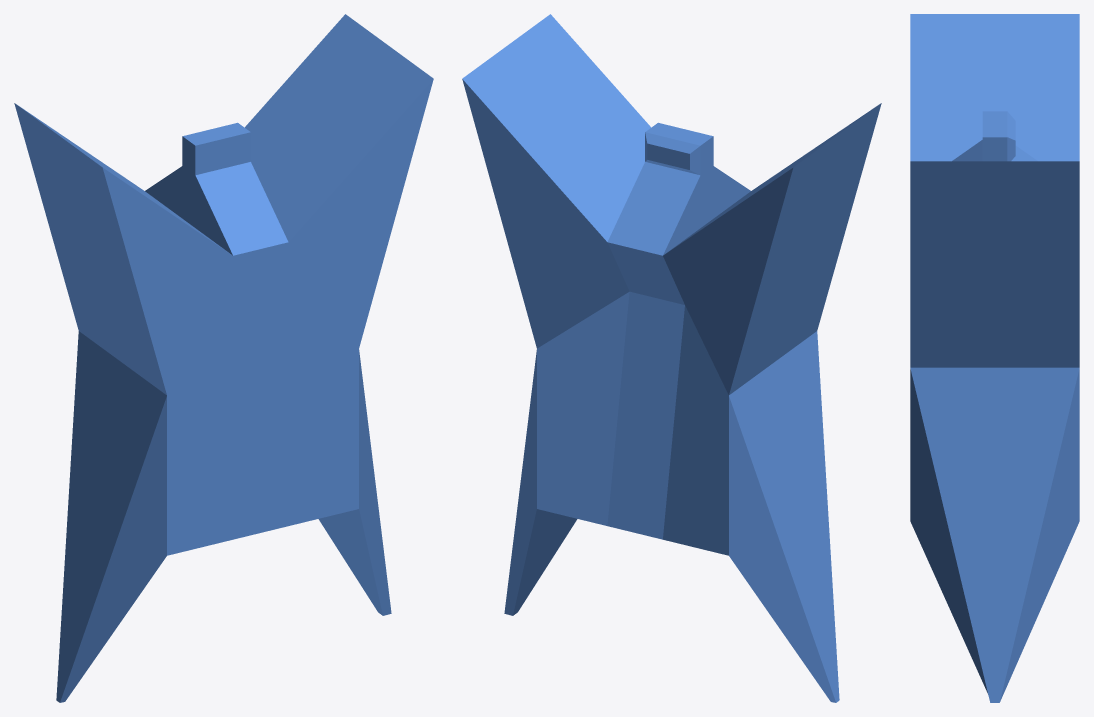
Rendered from enemy.glb.
The picture shows the model from 3 angles, left to right: view 1: azimuth 30°, elevation 25°; view 2: azimuth 150°, elevation 25°; view 3: azimuth 270°, elevation 25°; orthographic projection. The views are drawn at different scales.
Parts seen in each view (by area): view 1: Cube; view 2: Cube; view 3: Cube.
Boxes of the visible parts, x1=… form: Cube: x1=14, y1=14, x2=433, y2=702; Cube: x1=462, y1=14, x2=881, y2=702; Cube: x1=910, y1=14, x2=1079, y2=702.
Bounding box in the file's own units: 4.33 × 7.17 × 2.
